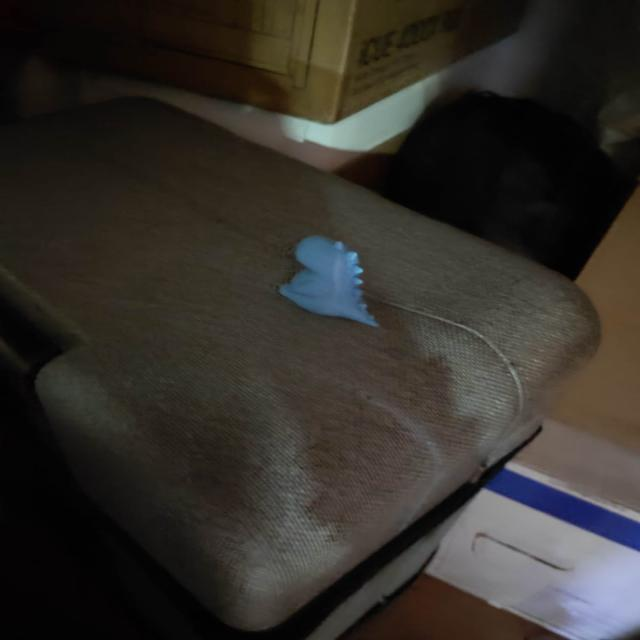DINO: (263, 220, 391, 327)
